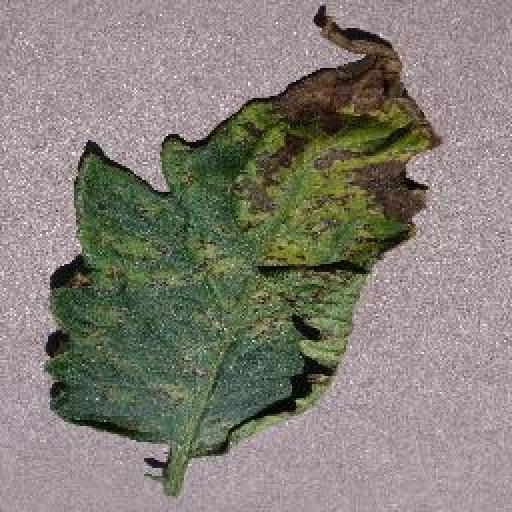Septoria: (42, 11, 440, 452)
